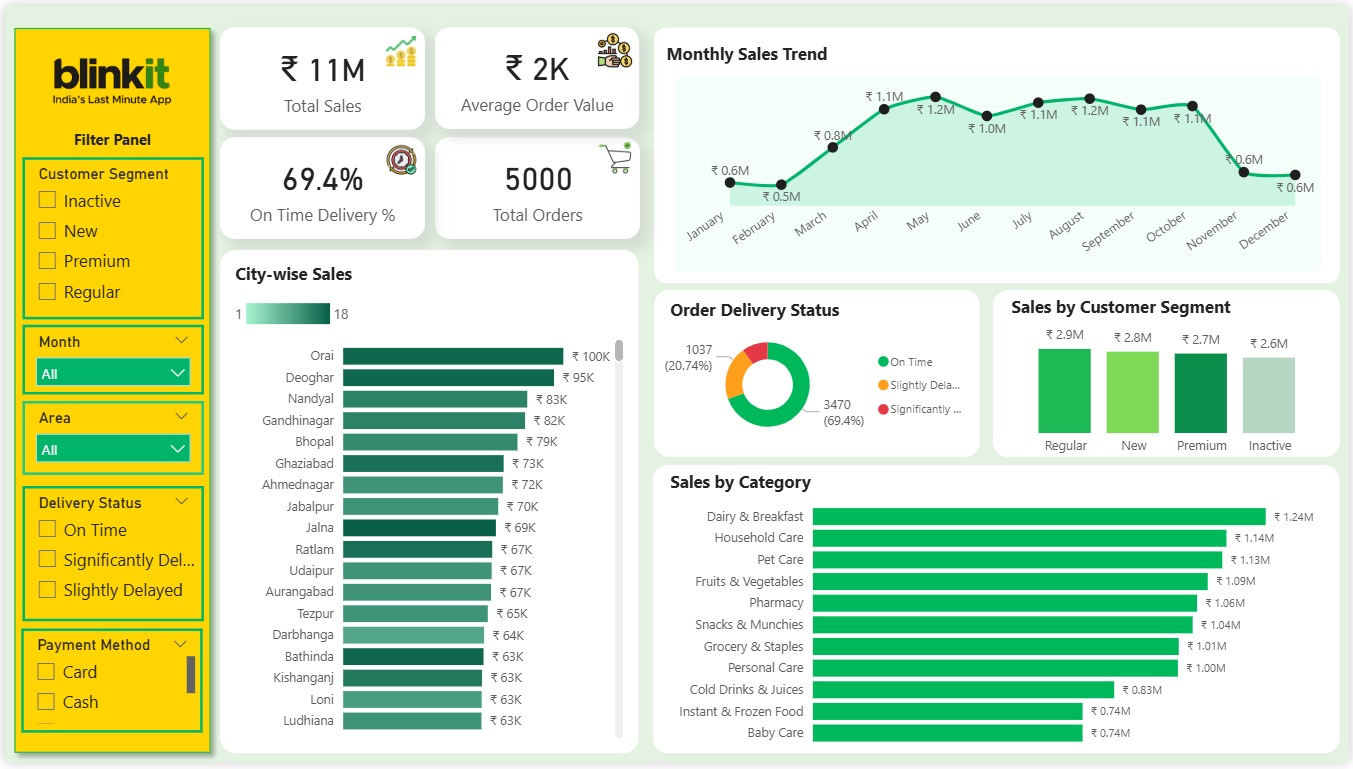

This screenshot's page, from the dashboard's own definition file:
{"tool":"powerbi","page":{"name":"Page 1","canvas":[1280,720],"ordinal":0},"visuals":[{"type":"card","fields":{"Values":["Orders.Total Sales"]},"box":[204.8,20.2,195.2,97.6],"z":0},{"type":"shape","box":[617.9,20.2,653.6,244],"z":1000},{"type":"areaChart","fields":{"Category":["Orders.order_date.Variation.Date Hierarchy.Month"],"Y":["Orders.Total Sales"]},"box":[638.1,67.9,615.5,184.5],"z":2000},{"type":"textbox","box":[625.2,28.9,200,31.4],"z":3000},{"type":"shape","box":[0,11.9,204.8,708.3],"z":4000},{"type":"image","box":[6,0,191.7,144],"z":5000},{"type":"slicer","fields":{"Values":["Orders.order_date.Variation.Date Hierarchy.Month"]},"box":[16.7,303.8,172.6,66.7],"z":6000},{"type":"slicer","fields":{"Values":["blinkit_customers.customer_segment"]},"box":[16.7,144,172.6,154.8],"z":7000},{"type":"slicer","fields":{"Values":["blinkit_customers.area"]},"box":[16.7,376.4,172.6,70.2],"z":8000},{"type":"slicer","fields":{"Values":["Orders.delivery_status"]},"box":[16.7,457.1,172.6,128.6],"z":9000},{"type":"slicer","fields":{"Values":["Orders.payment_method"]},"box":[15.5,593,172.6,98.8],"z":10000},{"type":"textbox","box":[34.5,111.9,135.7,32.1],"z":11000},{"type":"shape","box":[616.7,436.9,654.8,275],"z":12000},{"type":"barChart","fields":{"Category":["Products.category"],"Y":["Orders.Total Sales"]},"box":[628.6,457.1,623.8,257.1],"z":13000},{"type":"textbox","box":[628.6,436.9,148.8,42.9],"z":14000},{"type":"card","fields":{"Values":["Orders.Total Orders"]},"box":[409.5,125,195.2,96.4],"z":15000},{"type":"card","fields":{"Values":["Orders.Average Order Value"]},"box":[409.5,20.2,194,96.4],"z":16000},{"type":"card","fields":{"Values":["Orders.On Time Delivery %"]},"box":[204.8,125,195.2,96.4],"z":17000},{"type":"shape","box":[204.8,232.1,398.8,479.8],"z":18000},{"type":"barChart","fields":{"Category":["blinkit_customers.area"],"Y":["Orders.Total Sales"]},"box":[214.3,275,379.8,427.4],"z":19000},{"type":"textbox","box":[214.3,238.1,326.2,36.9],"z":20000},{"type":"shape","box":[940.5,270.2,331,159.5],"z":21000},{"type":"columnChart","fields":{"Category":["blinkit_customers.customer_segment"],"Y":["Orders.Total Sales"]},"box":[953.6,292.9,308.3,144],"z":22000},{"type":"shape","box":[617.9,270.2,310.7,159.5],"z":23000},{"type":"donutChart","fields":{"Category":["Orders.delivery_status"],"Y":["Orders.Total Orders"]},"box":[616.7,303.6,310.7,114.3],"z":24000},{"type":"textbox","box":[953.6,270.2,300,44],"z":24001},{"type":"textbox","box":[628.6,272.6,227.4,60.7],"z":24002},{"type":"image","box":[361.9,28.6,31,28.6],"z":24003},{"type":"image","box":[564.3,23.8,33.3,36.9],"z":24004},{"type":"image","box":[358.3,132.1,38.1,28.6],"z":24005},{"type":"image","box":[564.3,128.6,33.3,32.1],"z":24006}]}

Visuals, with their boxes in screenshot pixels (x1, y1, x2, y2), scaled from the page's 1280x720 canvas onto the 1353x769 screenshot:
card - Orders.Total Sales: region(216, 22, 423, 126)
shape: region(653, 22, 1344, 282)
areaChart - Orders.order_date.Variation.Date Hierarchy.Month x Orders.Total Sales: region(674, 73, 1325, 270)
textbox: region(661, 31, 872, 64)
shape: region(0, 13, 216, 768)
image: region(6, 0, 209, 154)
slicer - Orders.order_date.Variation.Date Hierarchy.Month: region(18, 324, 200, 396)
slicer - blinkit_customers.customer_segment: region(18, 154, 200, 319)
slicer - blinkit_customers.area: region(18, 402, 200, 477)
slicer - Orders.delivery_status: region(18, 488, 200, 626)
slicer - Orders.payment_method: region(16, 633, 199, 739)
textbox: region(36, 120, 180, 154)
shape: region(652, 467, 1344, 760)
barChart - Products.category x Orders.Total Sales: region(664, 488, 1324, 763)
textbox: region(664, 467, 822, 512)
card - Orders.Total Orders: region(433, 134, 639, 236)
card - Orders.Average Order Value: region(433, 22, 638, 125)
card - Orders.On Time Delivery %: region(216, 134, 423, 236)
shape: region(216, 248, 638, 760)
barChart - blinkit_customers.area x Orders.Total Sales: region(227, 294, 628, 750)
textbox: region(227, 254, 571, 294)
shape: region(994, 289, 1344, 459)
columnChart - blinkit_customers.customer_segment x Orders.Total Sales: region(1008, 313, 1334, 467)
shape: region(653, 289, 982, 459)
donutChart - Orders.delivery_status x Orders.Total Orders: region(652, 324, 980, 446)
textbox: region(1008, 289, 1325, 336)
textbox: region(664, 291, 905, 356)
image: region(383, 31, 415, 61)
image: region(596, 25, 632, 65)
image: region(379, 141, 419, 172)
image: region(596, 137, 632, 172)
